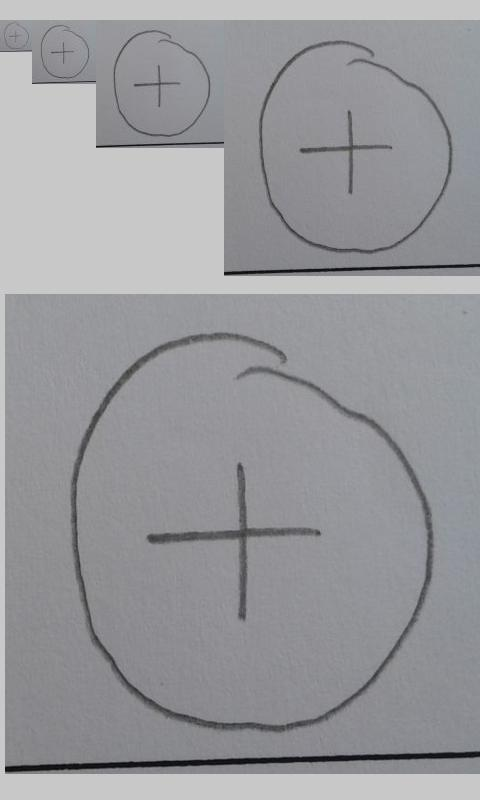button: (68, 331, 436, 734), (257, 40, 453, 255), (113, 29, 212, 138), (40, 24, 90, 79), (3, 22, 29, 50)
